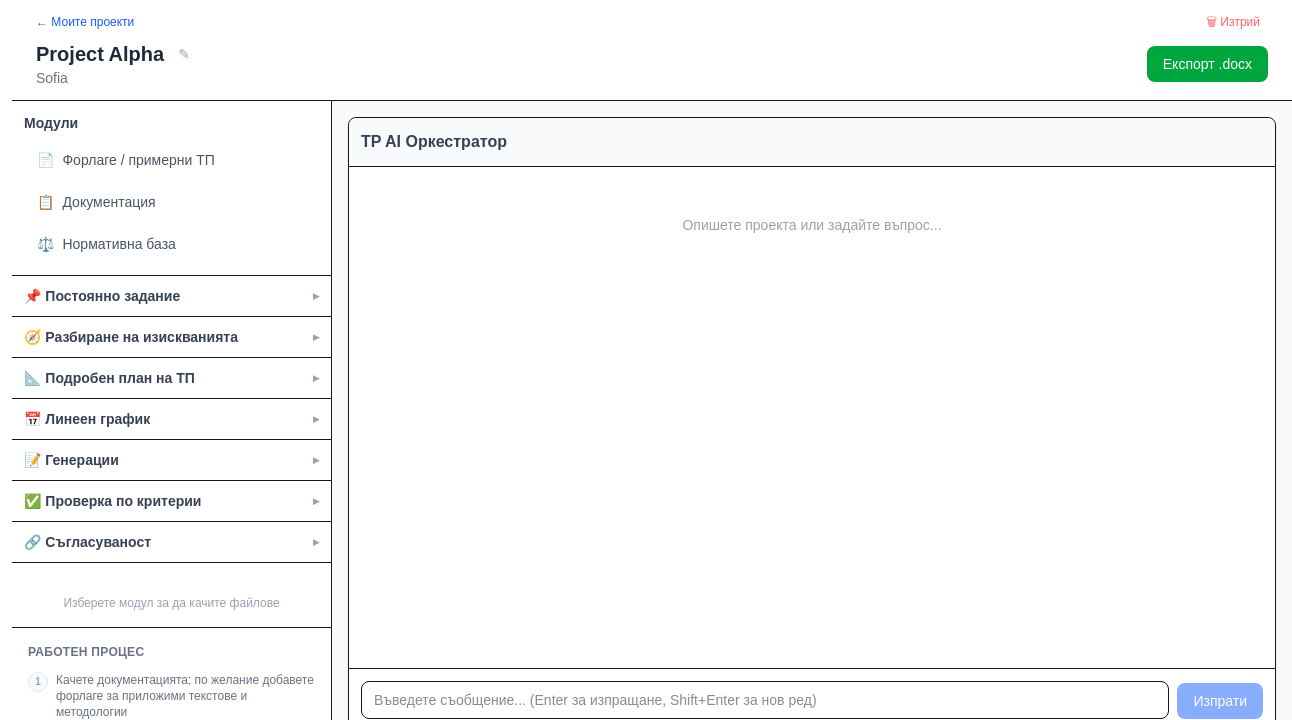
Test: ProjectPage › loads a project and saves edits
The width and height of the screenshot is (1292, 720).
Expected: the heading "Project Alpha" is shown, 36,40 -> 164,68
Click the button "✎" at {"x": 184, "y": 54}, box 172,42 -> 196,66
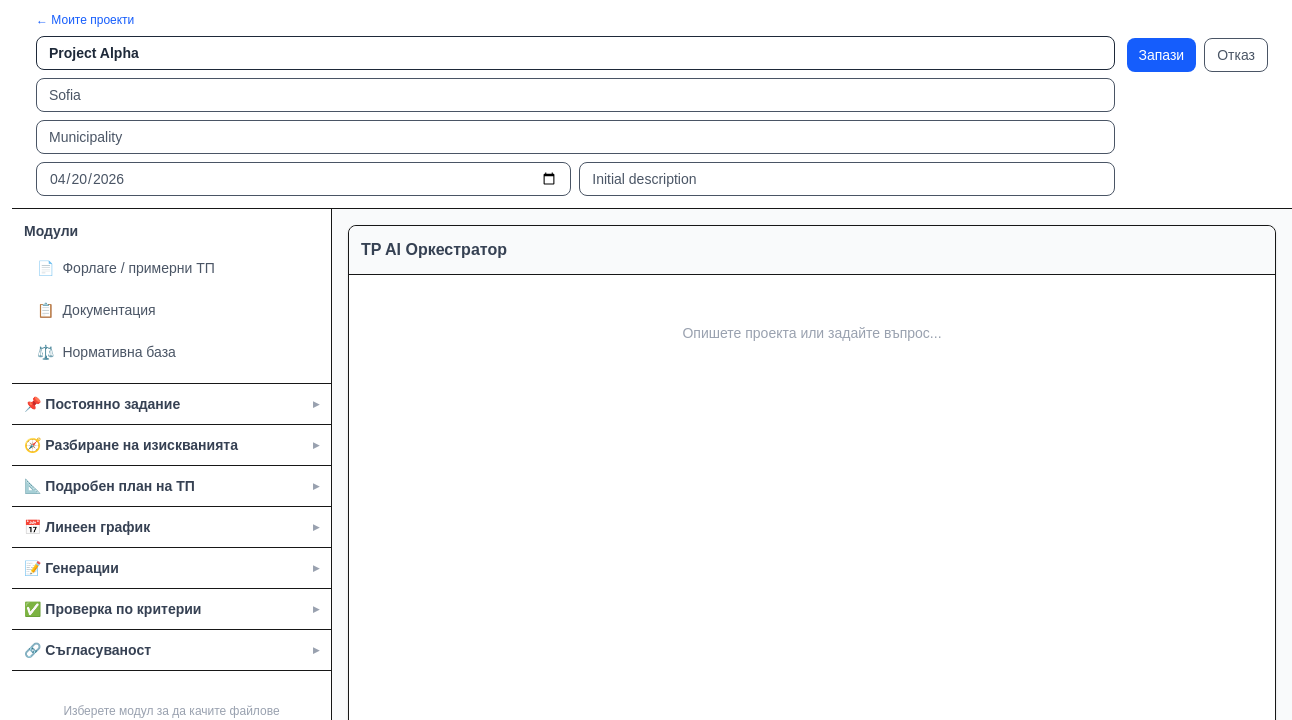
Replace the text in the 1st field with "Updated Project" at {"x": 575, "y": 53}, box 36,36 -> 1114,70
Replace the text in the 2nd field with "Plovdiv" at {"x": 575, "y": 95}, box 36,78 -> 1114,112
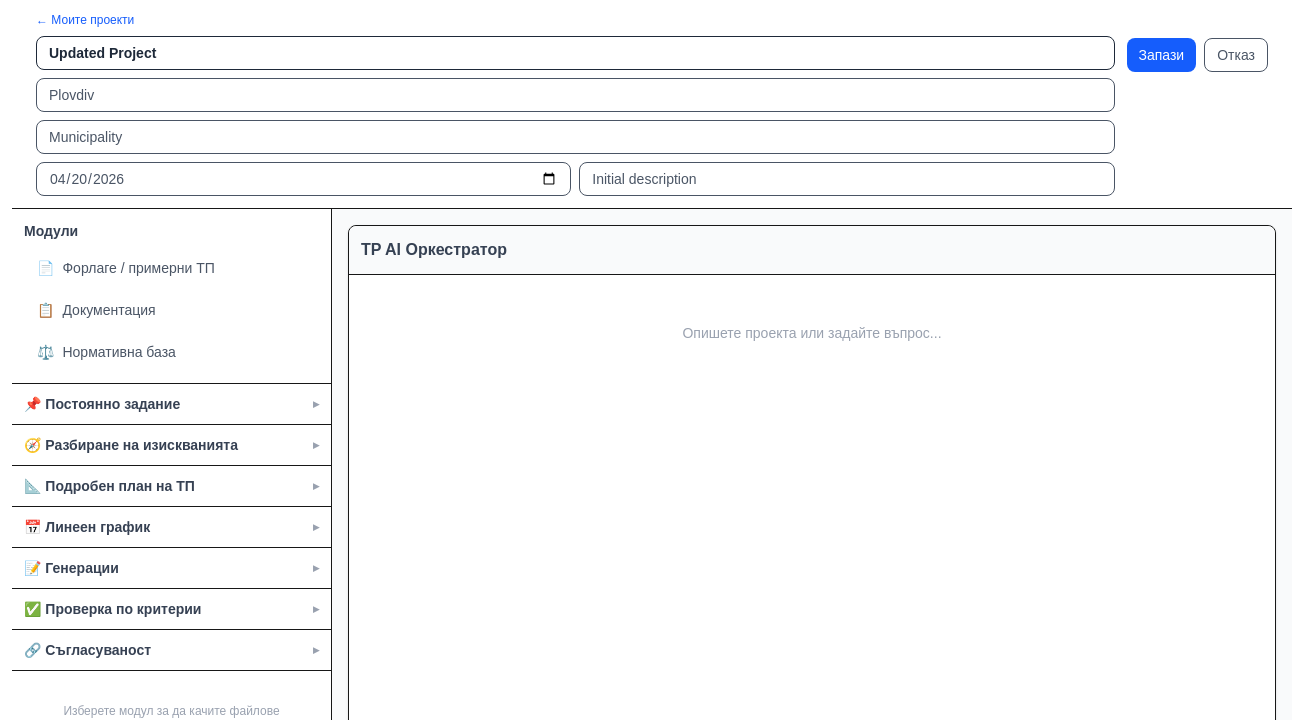
Replace the text in the 3rd field with "Updated authority" at {"x": 575, "y": 137}, box 36,120 -> 1114,154
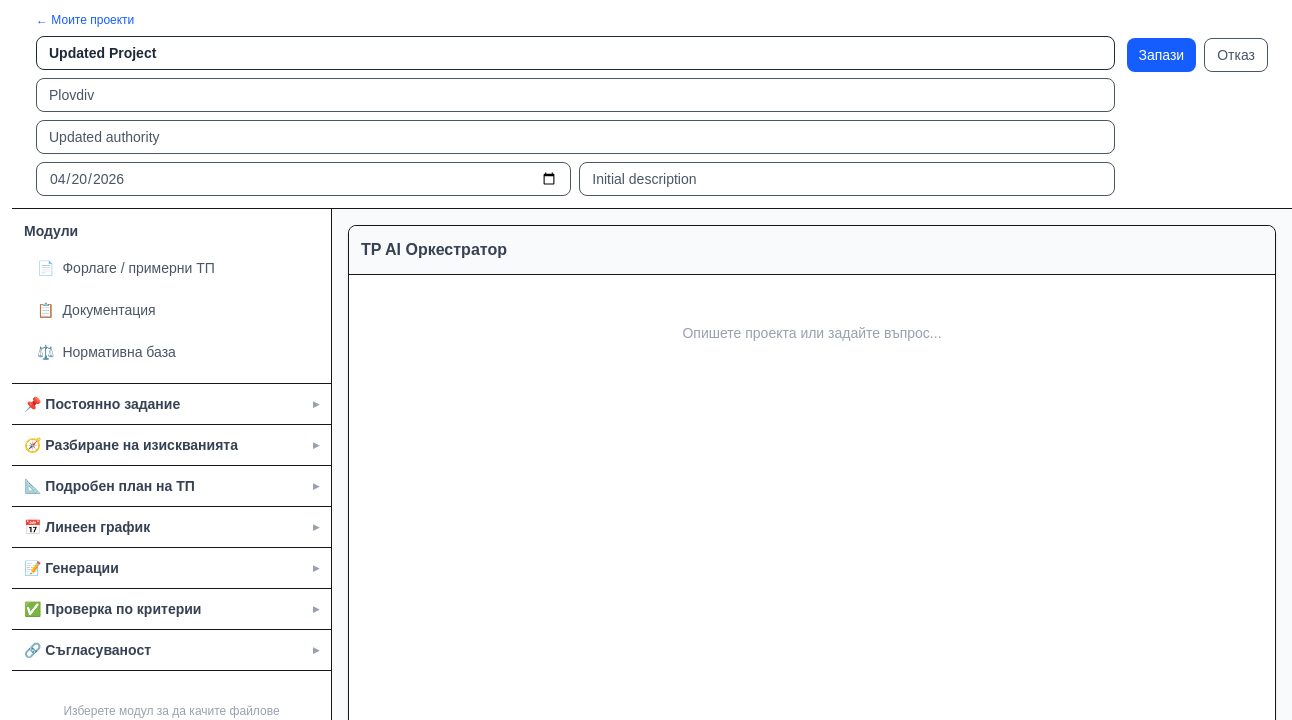
Type "2026-04-21" into the date field named "Дата на подаване" at {"x": 304, "y": 179}, box 36,162 -> 571,196
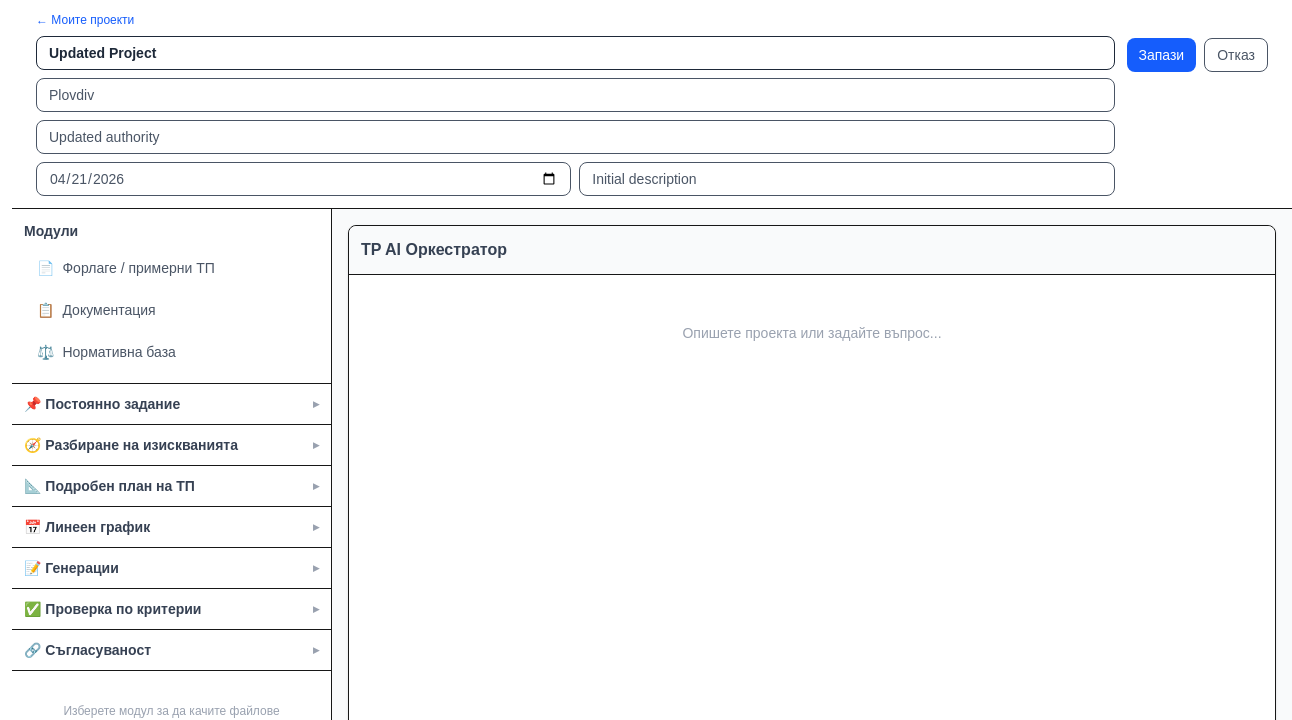
Replace the text in the 4th field with "Updated description" at {"x": 847, "y": 179}, box 579,162 -> 1115,196
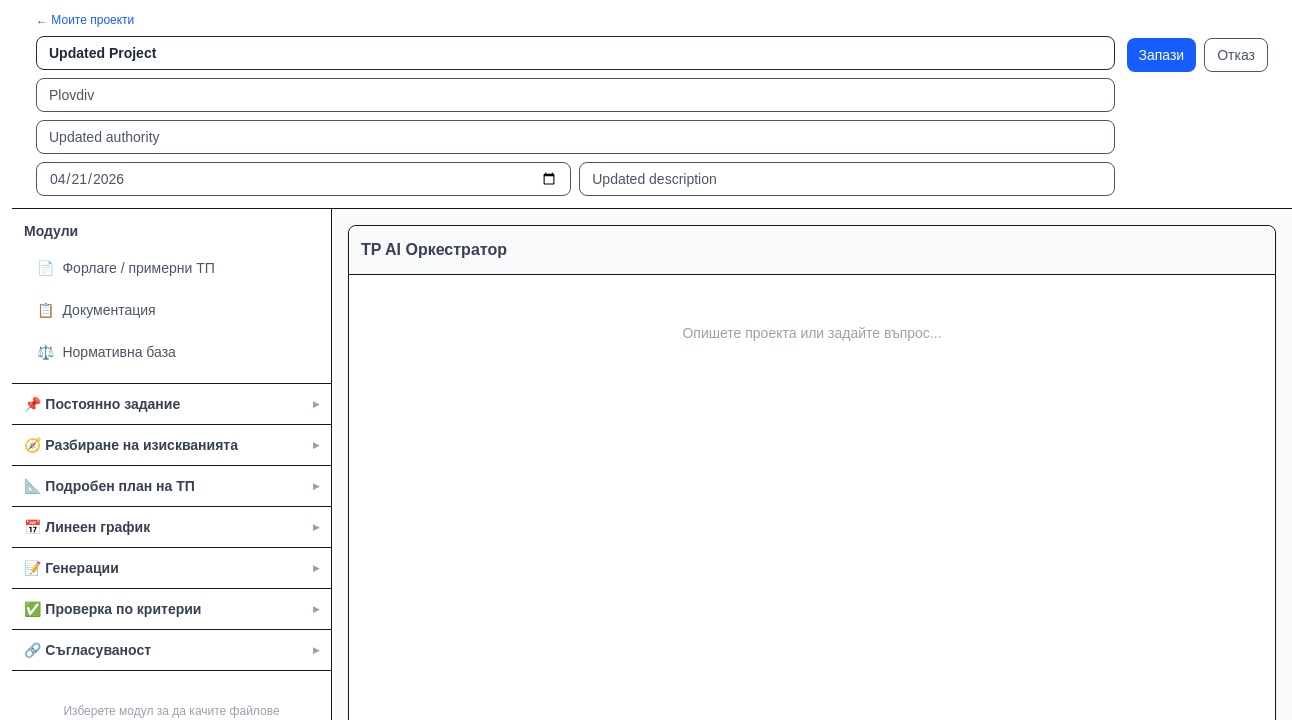
Click the button "Запази" at {"x": 1161, "y": 55}, box 1126,38 -> 1196,72
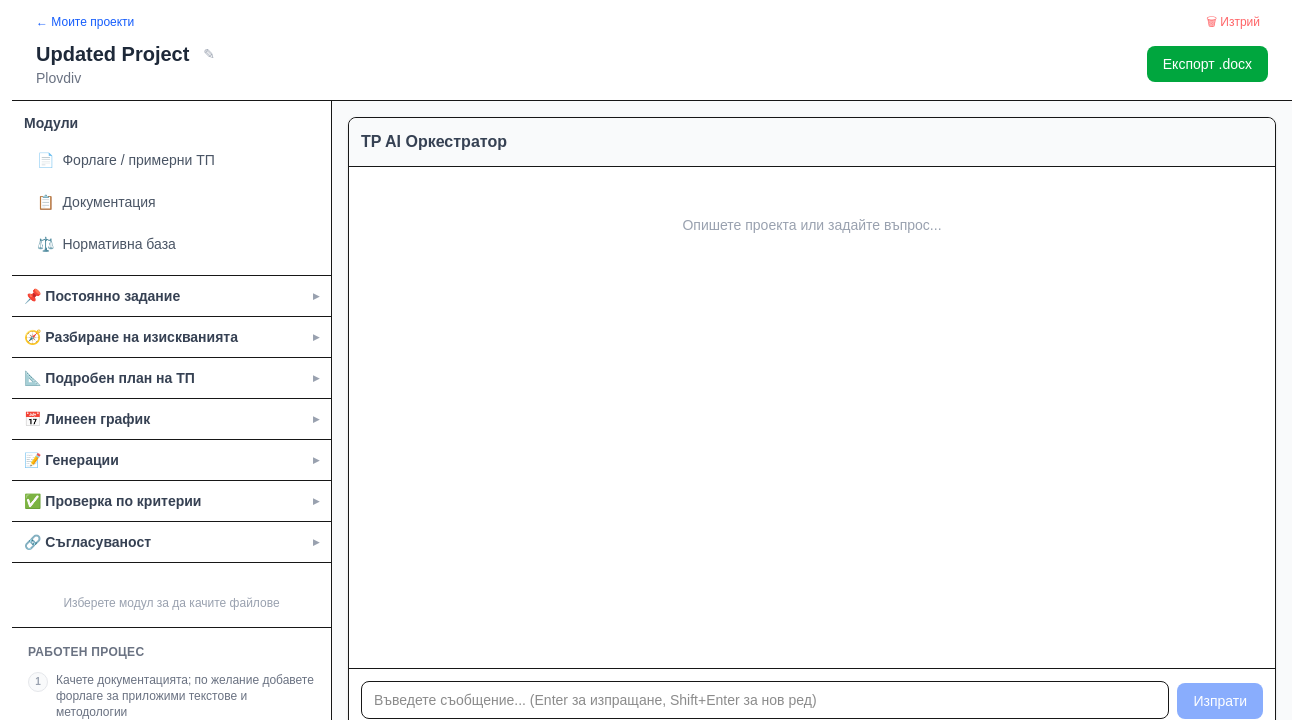
Result: the heading "Updated Project" is shown at 36,40 -> 189,68
